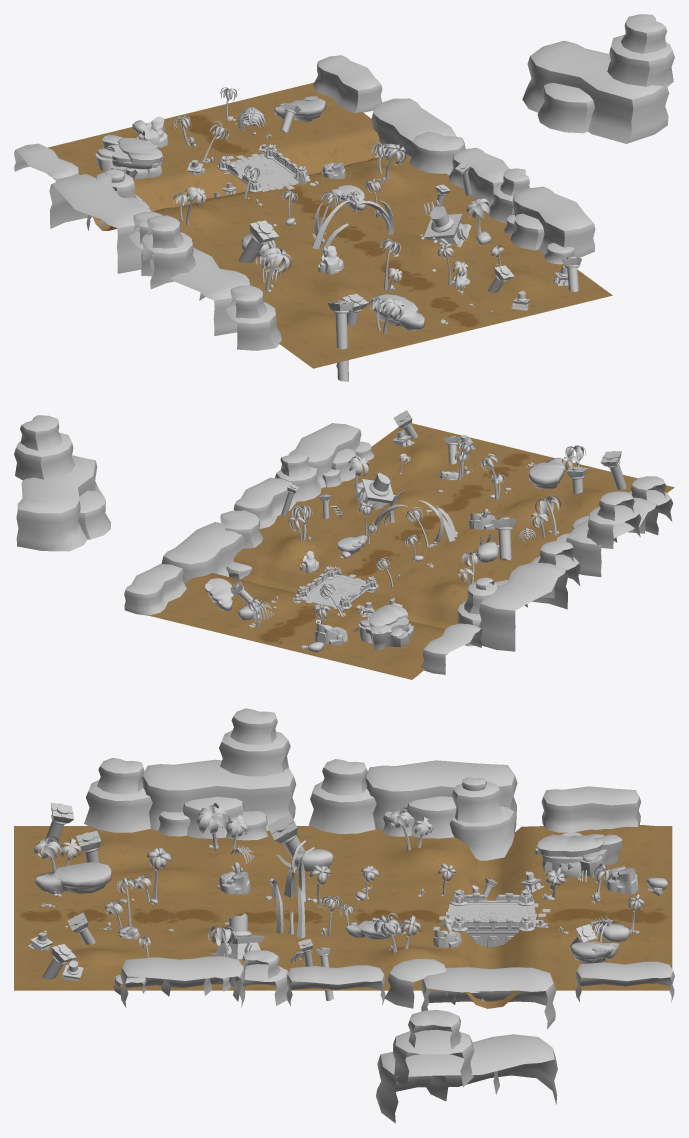
The model's file is shamoplane.FBX.
3 views of the same model, one above another, from view 1: azimuth 30°, elevation 25°; view 2: azimuth 150°, elevation 25°; view 3: azimuth 270°, elevation 25° (orthographic). The views are drawn at different scales.
Parts seen in each view (by area): view 1: shamoplane_a, shamoplane_b; view 2: shamoplane_a, shamoplane_b; view 3: shamoplane_a, shamoplane_b.
Part boxes in pixels (x1,y1,x2,y2): shamoplane_a: (14, 14, 674, 381); shamoplane_b: (132, 87, 504, 333); shamoplane_a: (14, 410, 674, 679); shamoplane_b: (238, 440, 586, 652); shamoplane_a: (14, 708, 674, 1123); shamoplane_b: (34, 803, 667, 963).
Size of the model in its own units: 15824 by 3251 by 13442.
